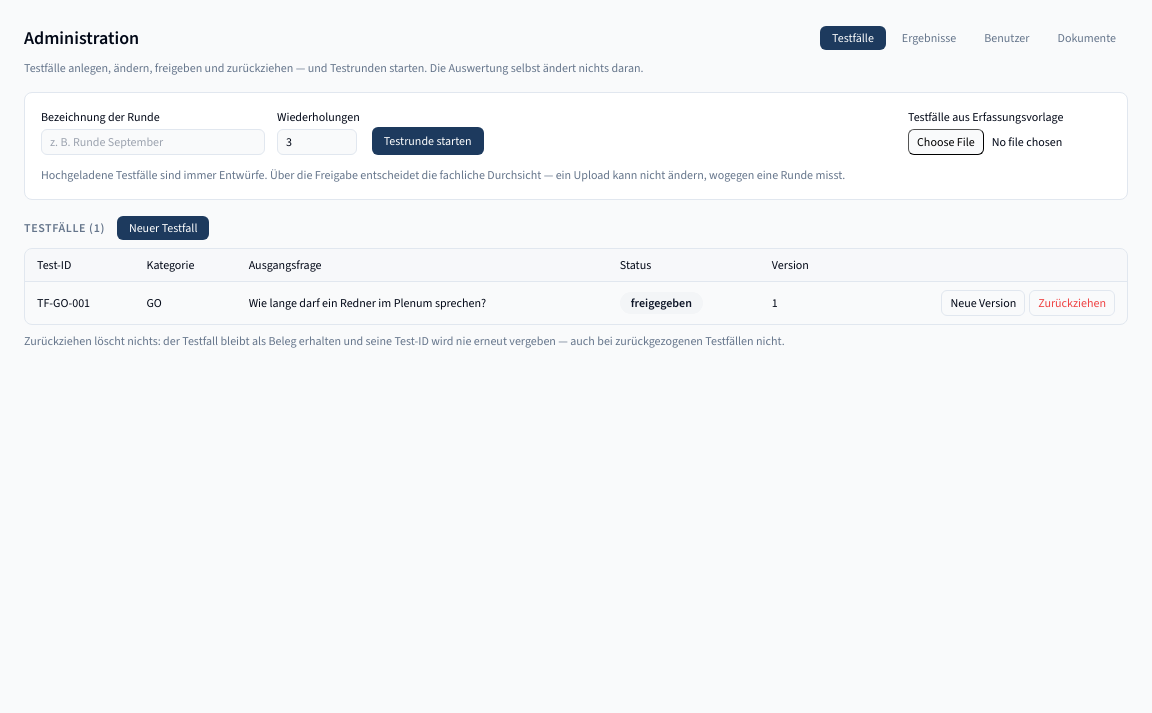
Test: editing an approved case › says why, before anything is typed
Expected: the text "TF-GO-001" is shown, [25,282,134,324]
Click the button "Neue Version": (983, 303) [942,290,1025,316]
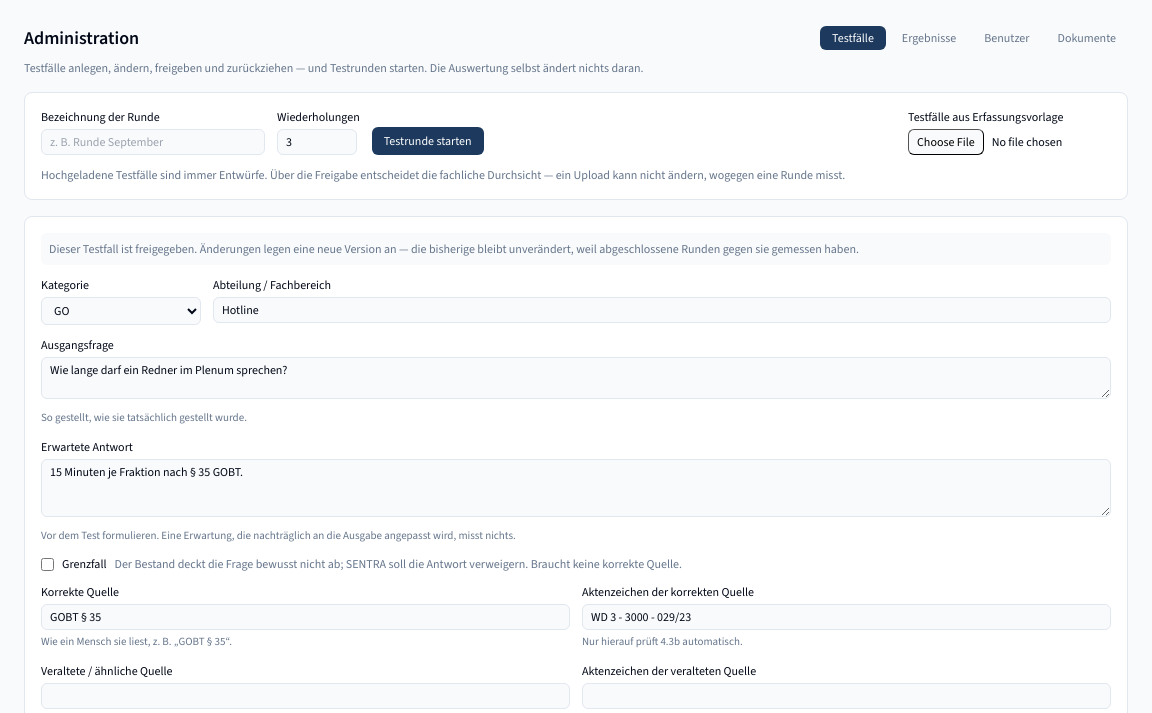
Now the text "abgeschlossene Runden gegen sie gemessen" is shown, box [49,241,859,257]
